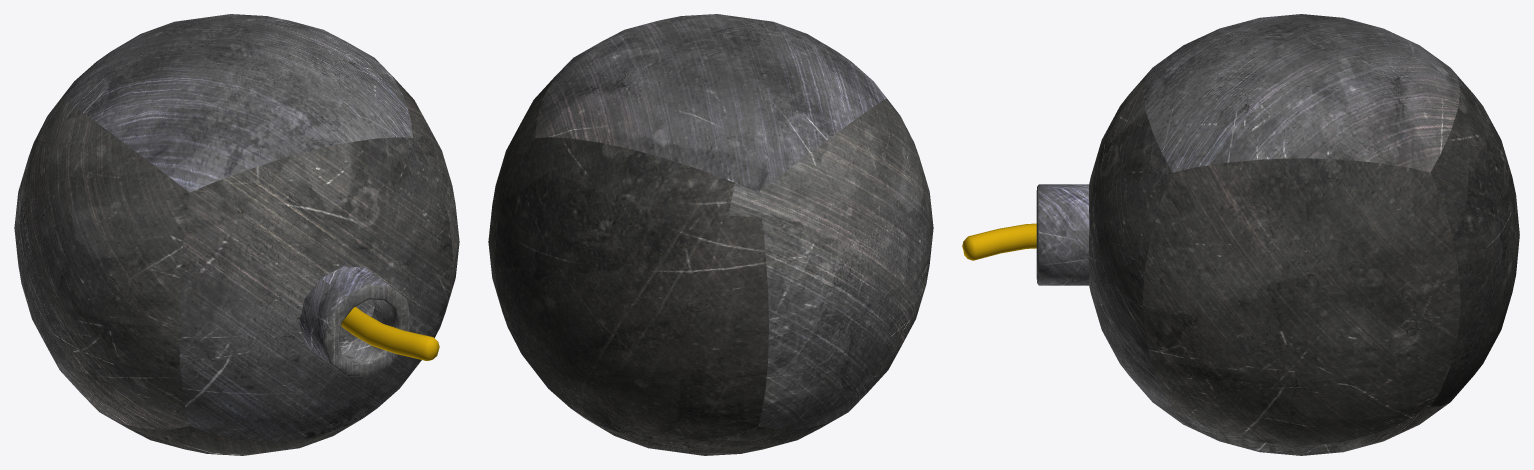
Rendered from bomb.obj.
3 views of the same model, side by side, from view 1: azimuth 30°, elevation 25°; view 2: azimuth 150°, elevation 25°; view 3: azimuth 270°, elevation 25° (orthographic).
Parts seen in each view (by area): view 1: Bomb_Cube.001; view 2: Bomb_Cube.001; view 3: Bomb_Cube.001.
Part boxes in pixels (bbox=[...]): Bomb_Cube.001: bbox=[14, 14, 459, 455]; Bomb_Cube.001: bbox=[488, 14, 933, 455]; Bomb_Cube.001: bbox=[962, 14, 1519, 455].
Bounding box in the file's own units: 1.07 × 1.07 × 1.36.
Materials: 2 (2 with a texture image).
